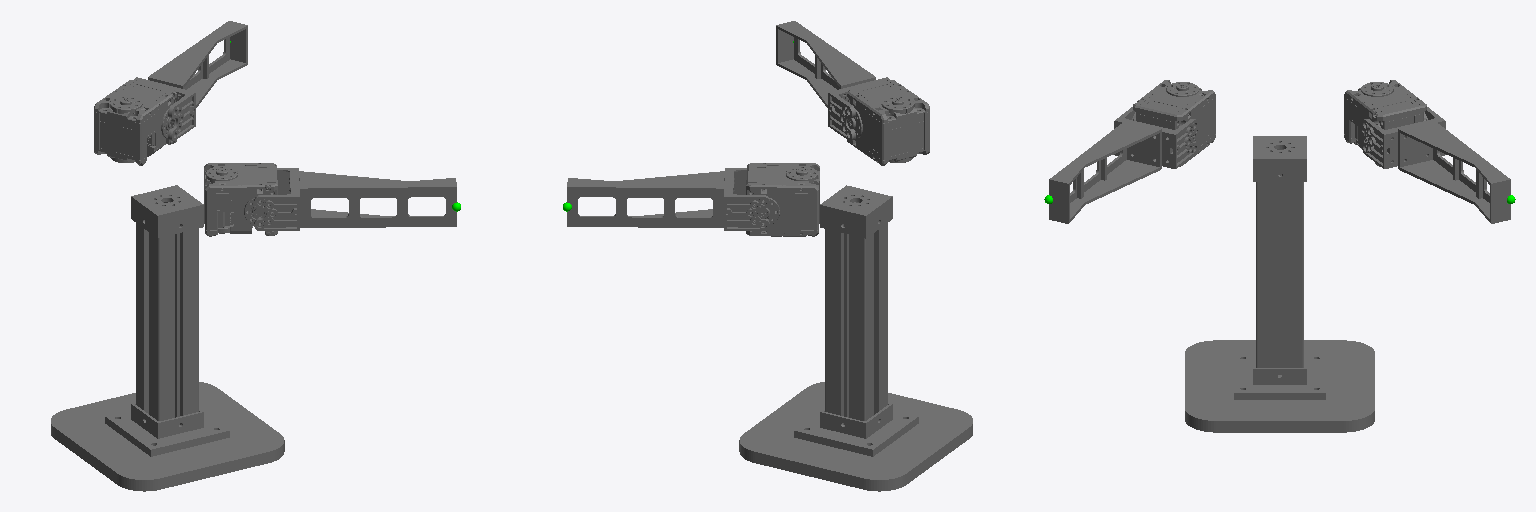
robot.urdf — upper_body:
<?xml version="1.0" ?>
<robot name="upper_body">
    <link name="base_link">
        <visual>
            <geometry>
                <mesh filename="package://upperbody3_description/meshes/base.stl" />
            </geometry>
            <material name="gray">
                <color rgba="0.5 0.5 0.5 2.0" />
            </material>
        </visual>
    </link>
    <link name="body_link">
        <visual>
            <geometry>
                <mesh filename="package://upperbody3_description/meshes/body.stl" />
            </geometry>
            <material name="gray">
                <color rgba="0.5 0.5 0.5 2.0" />
            </material>
        </visual>
    </link>
    <link name="left_x2_link">
        <visual>
            <geometry>
                <mesh filename="package://upperbody3_description/meshes/2x_joint.stl" />
            </geometry>
            <material name="gray">
                <color rgba="0.5 0.5 0.5 2.0" />
            </material>
        </visual>
    </link>
    <link name="right_x2_link">
        <visual>
            <geometry>
                <mesh filename="package://upperbody3_description/meshes/2x_joint.stl" />
            </geometry>
            <material name="gray">
                <color rgba="0.5 0.5 0.5 2.0" />
            </material>
        </visual>
    </link>
    <link name="left_arm_link">
        <visual>
            <geometry>
                <mesh filename="package://upperbody3_description/meshes/larm.stl" />
            </geometry>
            <material name="gray">
                <color rgba="0.5 0.5 0.5 2.0" />
            </material>
        </visual>
    </link>
    <link name="right_arm_link">
        <visual>
            <geometry>
                <mesh filename="package://upperbody3_description/meshes/rarm.stl" />
            </geometry>
            <material name="gray">
                <color rgba="0.5 0.5 0.5 2.0" />
            </material>
        </visual>
    </link>
    <link name="left_endpoint1">
        <visual>
            <geometry>
                <mesh filename="package://upperbody3_description/meshes/endpoint.stl" />
            </geometry>
            <material name="green">
                <color rgba="0.0 1.0 0. 2.0" />
            </material>
        </visual>
    </link>
    <link name="left_endpoint2">
        <visual>
            <geometry>
                <mesh filename="package://upperbody3_description/meshes/endpoint.stl" />
            </geometry>
            <material name="green">
                <color rgba="0.0 1.0 0. 2.0" />
            </material>
        </visual>
    </link>
    <link name="left_endpoint3">
        <visual>
            <geometry>
                <mesh filename="package://upperbody3_description/meshes/endpoint.stl" />
            </geometry>
            <material name="green">
                <color rgba="0.0 1.0 0. 2.0" />
            </material>
        </visual>
    </link>
    <link name="right_endpoint1">
        <visual>
            <geometry>
                <mesh filename="package://upperbody3_description/meshes/endpoint.stl" />
            </geometry>
            <material name="green">
                <color rgba="0.0 1.0 0. 2.0" />
            </material>
        </visual>
    </link>
    <link name="right_endpoint2">
        <visual>
            <geometry>
                <mesh filename="package://upperbody3_description/meshes/endpoint.stl" />
            </geometry>
            <material name="green">
                <color rgba="0.0 1.0 0. 2.0" />
            </material>
        </visual>
    </link>
    <link name="right_endpoint3">
        <visual>
            <geometry>
                <mesh filename="package://upperbody3_description/meshes/endpoint.stl" />
            </geometry>
            <material name="green">
                <color rgba="0.0 1.0 0. 2.0" />
            </material>
        </visual>
    </link>
    <joint name="waist" type="revolute">
        <parent link="base_link" />
        <child link="body_link" />
        <origin xyz="0 0 0.17000" rpy="0 0 0" />
        <axis xyz="0 0 1" />
        <limit effort="1000.0" lower="-1.5" upper="1.5" velocity="0.5" />
    </joint>
    <joint name="left_j1" type="revolute">
        <parent link="body_link" />
        <child link="left_x2_link" />
        <origin xyz="0.00482 0.06118 0.005" rpy="0 0 0.5" />
        <axis xyz="0 0 -1" />
        <limit effort="1000.0" lower="-1.5" upper="1.5" velocity="0.5" />
    </joint>
    <joint name="right_j1" type="revolute">
        <parent link="body_link" />
        <child link="right_x2_link" />
        <origin xyz="0.00482 -0.06118 0.005" rpy="0 0 -0.5" />
        <axis xyz="0 0 -1" />
        <limit effort="1000.0" lower="-1.5" upper="1.5" velocity="0.5" />
    </joint>
    <joint name="left_j2" type="revolute">
        <parent link="left_x2_link" />
        <child link="left_arm_link" />
        <origin xyz="0.024 -0.019 0.019" rpy="0 0 0" />
        <axis xyz="0 1 0" />
        <limit effort="1000.0" lower="-1.5" upper="1.5" velocity="0.5" />
    </joint>
    <joint name="right_j2" type="revolute">
        <parent link="right_x2_link" />
        <child link="right_arm_link" />
        <origin xyz="0.024 -0.019 0.019" rpy="0 0 0" />
        <axis xyz="0 1 0" />
        <limit effort="1000.0" lower="-1.5" upper="1.5" velocity="0.5" />
    </joint>
    <joint name="left_end_joint1" type="revolute">
        <parent link="left_arm_link" />
        <child link="left_endpoint1" />
        <origin xyz="0.1255 0.033 0.00" rpy="0 0 0" />
        <axis xyz="1 0 0" />
        <limit effort="1000.0" lower="-1.5" upper="1.5" velocity="0.5" />
    </joint>
    <joint name="left_end_joint2" type="revolute">
        <parent link="left_endpoint1" />
        <child link="left_endpoint2" />
        <origin xyz="0.00 0.00 0.00" rpy="0 0 0" />
        <axis xyz="0 1 0" />
        <limit effort="1000.0" lower="-1.5" upper="1.5" velocity="0.5" />
    </joint>
    <joint name="left_end_joint3" type="revolute">
        <parent link="left_endpoint2" />
        <child link="left_endpoint3" />
        <origin xyz="0.00 0.00 0.00" rpy="0 0 0" />
        <axis xyz="0 0 1" />
        <limit effort="1000.0" lower="-1.5" upper="1.5" velocity="0.5" />
    </joint>
    <joint name="right_end_joint1" type="revolute">
        <parent link="right_arm_link" />
        <child link="right_endpoint1" />
        <origin xyz="0.1255 0.005 0.00" rpy="0 0 0" />
        <axis xyz="1 0 0" />
        <limit effort="1000.0" lower="-1.5" upper="1.5" velocity="0.5" />
    </joint>
    <joint name="right_end_joint2" type="revolute">
        <parent link="right_endpoint1" />
        <child link="right_endpoint2" />
        <origin xyz="0.00 0.00 0.00" rpy="0 0 0" />
        <axis xyz="0 1 0" />
        <limit effort="1000.0" lower="-1.5" upper="1.5" velocity="0.5" />
    </joint>
    <joint name="right_end_joint3" type="revolute">
        <parent link="right_endpoint2" />
        <child link="right_endpoint3" />
        <origin xyz="0.00 0.00 0.00" rpy="0 0 0" />
        <axis xyz="0 0 1" />
        <limit effort="1000.0" lower="-1.5" upper="1.5" velocity="0.5" />
    </joint>
    
<transmission name="trans_waist">
        <type>transmission_interface/SimpleTransmission</type>
        <joint name="waist">
            <hardwareInterface>hardware_interface/EffortJointInterface</hardwareInterface>
        </joint>
        <actuator name="waist_motor">
            <hardwareInterface>hardware_interface/EffortJointInterface</hardwareInterface>
            <mechanicalReduction>1</mechanicalReduction>
        </actuator>
    </transmission>
    <transmission name="trans_left_j1">
        <type>transmission_interface/SimpleTransmission</type>
        <joint name="left_j1">
            <hardwareInterface>hardware_interface/EffortJointInterface</hardwareInterface>
        </joint>
        <actuator name="left_j1_motor">
            <hardwareInterface>hardware_interface/EffortJointInterface</hardwareInterface>
            <mechanicalReduction>1</mechanicalReduction>
        </actuator>
    </transmission>
    <transmission name="trans_right_j1">
        <type>transmission_interface/SimpleTransmission</type>
        <joint name="right_j1">
            <hardwareInterface>hardware_interface/EffortJointInterface</hardwareInterface>
        </joint>
        <actuator name="right_j1_motor">
            <hardwareInterface>hardware_interface/EffortJointInterface</hardwareInterface>
            <mechanicalReduction>1</mechanicalReduction>
        </actuator>
    </transmission>
    <transmission name="trans_left_j2">
        <type>transmission_interface/SimpleTransmission</type>
        <joint name="left_j2">
            <hardwareInterface>hardware_interface/EffortJointInterface</hardwareInterface>
        </joint>
        <actuator name="left_j2_motor">
            <hardwareInterface>hardware_interface/EffortJointInterface</hardwareInterface>
            <mechanicalReduction>1</mechanicalReduction>
        </actuator>
    </transmission>
    <transmission name="trans_right_j2">
        <type>transmission_interface/SimpleTransmission</type>
        <joint name="right_j2">
            <hardwareInterface>hardware_interface/EffortJointInterface</hardwareInterface>
        </joint>
        <actuator name="right_j2_motor">
            <hardwareInterface>hardware_interface/EffortJointInterface</hardwareInterface>
            <mechanicalReduction>1</mechanicalReduction>
        </actuator>
    </transmission>
    <transmission name="trans_left_end_joint1">
        <type>transmission_interface/SimpleTransmission</type>
        <joint name="left_end_joint1">
            <hardwareInterface>hardware_interface/EffortJointInterface</hardwareInterface>
        </joint>
        <actuator name="left_end_joint1_motor">
            <hardwareInterface>hardware_interface/EffortJointInterface</hardwareInterface>
            <mechanicalReduction>1</mechanicalReduction>
        </actuator>
    </transmission>
    <transmission name="trans_left_end_joint2">
        <type>transmission_interface/SimpleTransmission</type>
        <joint name="left_end_joint2">
            <hardwareInterface>hardware_interface/EffortJointInterface</hardwareInterface>
        </joint>
        <actuator name="left_end_joint2_motor">
            <hardwareInterface>hardware_interface/EffortJointInterface</hardwareInterface>
            <mechanicalReduction>1</mechanicalReduction>
        </actuator>
    </transmission>
    <transmission name="trans_left_end_joint3">
        <type>transmission_interface/SimpleTransmission</type>
        <joint name="left_end_joint3">
            <hardwareInterface>hardware_interface/EffortJointInterface</hardwareInterface>
        </joint>
        <actuator name="left_end_joint3_motor">
            <hardwareInterface>hardware_interface/EffortJointInterface</hardwareInterface>
            <mechanicalReduction>1</mechanicalReduction>
        </actuator>
    </transmission>
    <transmission name="trans_right_end_joint1">
        <type>transmission_interface/SimpleTransmission</type>
        <joint name="right_end_joint1">
            <hardwareInterface>hardware_interface/EffortJointInterface</hardwareInterface>
        </joint>
        <actuator name="right_end_joint1_motor">
            <hardwareInterface>hardware_interface/EffortJointInterface</hardwareInterface>
            <mechanicalReduction>1</mechanicalReduction>
        </actuator>
    </transmission>
    <transmission name="trans_right_end_joint2">
        <type>transmission_interface/SimpleTransmission</type>
        <joint name="right_end_joint2">
            <hardwareInterface>hardware_interface/EffortJointInterface</hardwareInterface>
        </joint>
        <actuator name="right_end_joint2_motor">
            <hardwareInterface>hardware_interface/EffortJointInterface</hardwareInterface>
            <mechanicalReduction>1</mechanicalReduction>
        </actuator>
    </transmission>
    <transmission name="trans_right_end_joint3">
        <type>transmission_interface/SimpleTransmission</type>
        <joint name="right_end_joint3">
            <hardwareInterface>hardware_interface/EffortJointInterface</hardwareInterface>
        </joint>
        <actuator name="right_end_joint3_motor">
            <hardwareInterface>hardware_interface/EffortJointInterface</hardwareInterface>
            <mechanicalReduction>1</mechanicalReduction>
        </actuator>
    </transmission>
    <gazebo>
        <plugin name="gazebo_ros_control" filename="libgazebo_ros_control.so">
            <robotNamespace>/</robotNamespace>
        </plugin>
    </gazebo>
</robot>

--- Facts derived from the render (not from the file) ---
Views: 3 orthographic renders of the robot side by side, from view 1: azimuth 30°, elevation 25°; view 2: azimuth 150°, elevation 25°; view 3: azimuth 270°, elevation 25°.
Robot: upper_body — 12 links, 11 joints (11 revolute); root link base_link; default pose: every joint at zero.
Visible links, largest first — view 1: base_link, right_arm_link, left_x2_link, left_arm_link, right_x2_link; view 2: base_link, left_arm_link, right_x2_link, right_arm_link, left_x2_link; view 3: base_link, left_arm_link, right_arm_link, right_x2_link, left_x2_link.
Boxes of the visible links, x1,y1,x2,y2 form: base_link: (51, 185, 284, 491); right_arm_link: (254, 168, 456, 230); left_x2_link: (94, 80, 176, 165); left_arm_link: (134, 21, 247, 140); right_x2_link: (204, 163, 277, 236); base_link: (739, 185, 972, 491); left_arm_link: (567, 168, 769, 230); right_x2_link: (847, 80, 929, 165); right_arm_link: (776, 21, 889, 140); left_x2_link: (746, 163, 819, 236); base_link: (1185, 136, 1374, 432); left_arm_link: (1362, 107, 1510, 223); right_arm_link: (1049, 107, 1197, 223); right_x2_link: (1132, 80, 1215, 166); left_x2_link: (1344, 80, 1427, 166).
Size in the robot's own frame: 0.196 by 0.2963 by 0.2149 metres.
11 mesh visuals loaded from 6 distinct referenced files (5 binary STL); not drawn: 1 (reference not matched to a file when rendering).